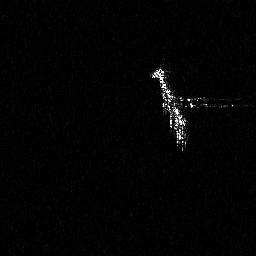ship: (149, 63, 247, 155)
